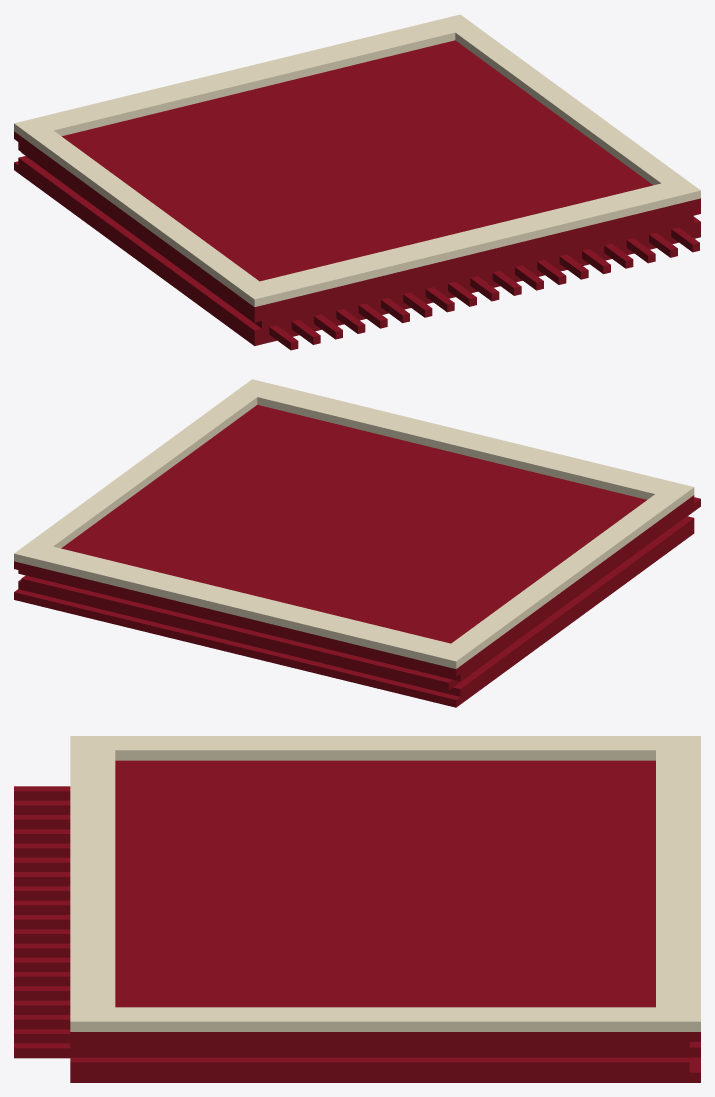
The model's file is headscarf.glb.
The picture shows the model from 3 angles, top to bottom: view 1: azimuth 30°, elevation 25°; view 2: azimuth 150°, elevation 25°; view 3: azimuth 270°, elevation 25°; orthographic projection. The views are drawn at different scales.
Parts seen in each view (by area): view 1: headscarf:compound; view 2: headscarf:compound; view 3: headscarf:compound.
Part boxes in pixels (x1,y1,x2,y2): headscarf:compound: (14,14,700,350); headscarf:compound: (14,379,700,707); headscarf:compound: (14,736,700,1082).
Bounding box in the file's own units: 0.24 × 0.024 × 0.244.
